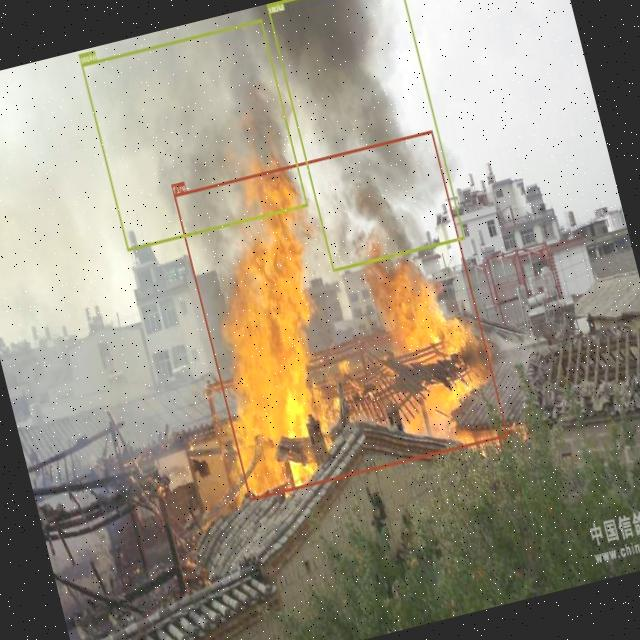fire: (172, 129, 508, 500)
smoke: (265, 0, 464, 271), (80, 18, 308, 250)
